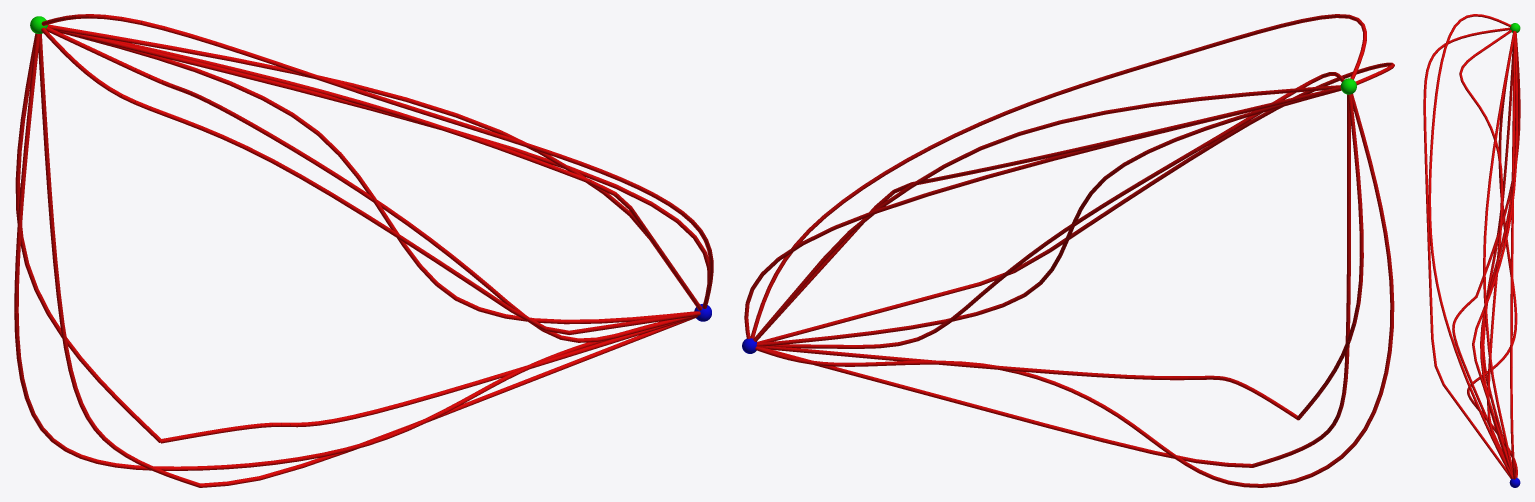
The model's file is paths.obj.
3 views of the same model, side by side, from view 1: azimuth 30°, elevation 25°; view 2: azimuth 150°, elevation 25°; view 3: azimuth 270°, elevation 25° (orthographic). The views are drawn at different scales.
Bounding box in the file's own units: 1.82 × 1.27 × 0.3671.
